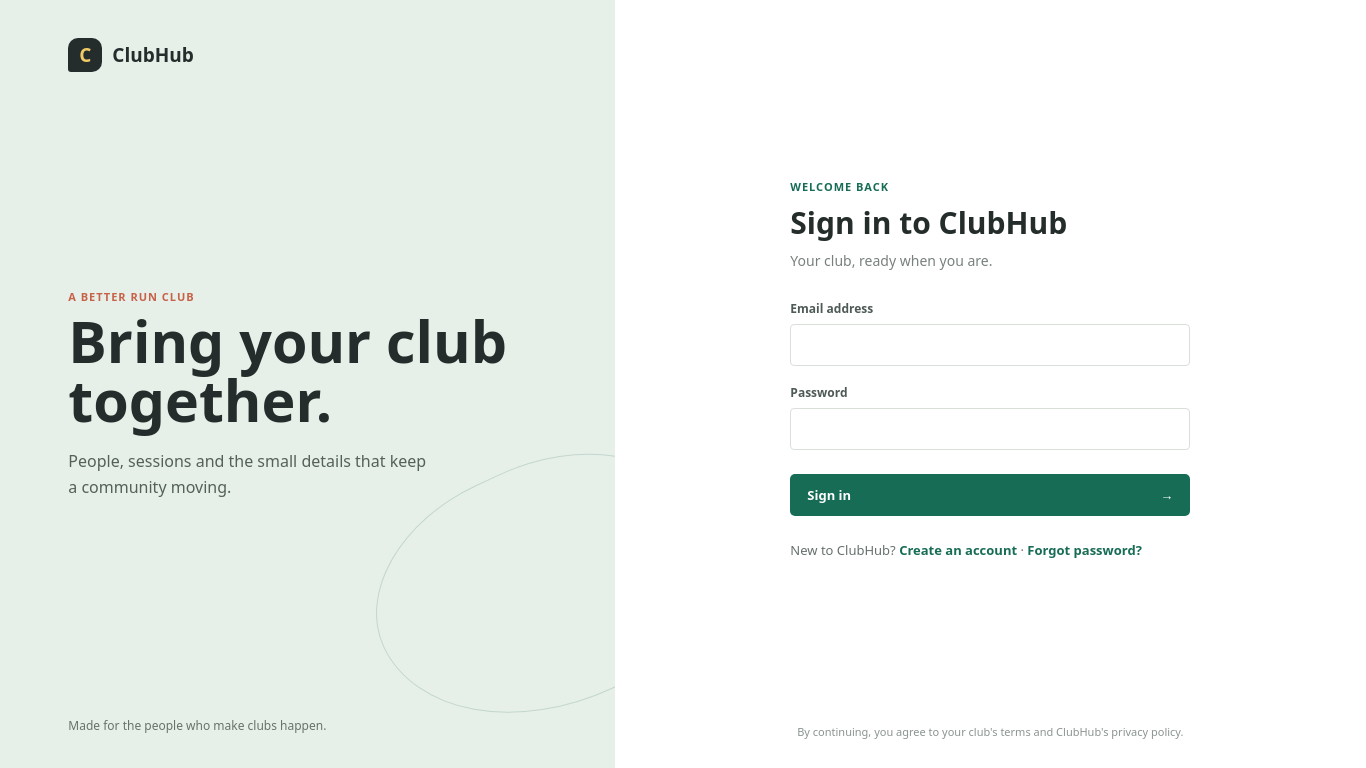
Test: ClubHub onboarding › signs in and loads the selected club dashboard
Type "alex@example.test" into the field labelled "Email address" at (990,345), box [790,324,1190,366]
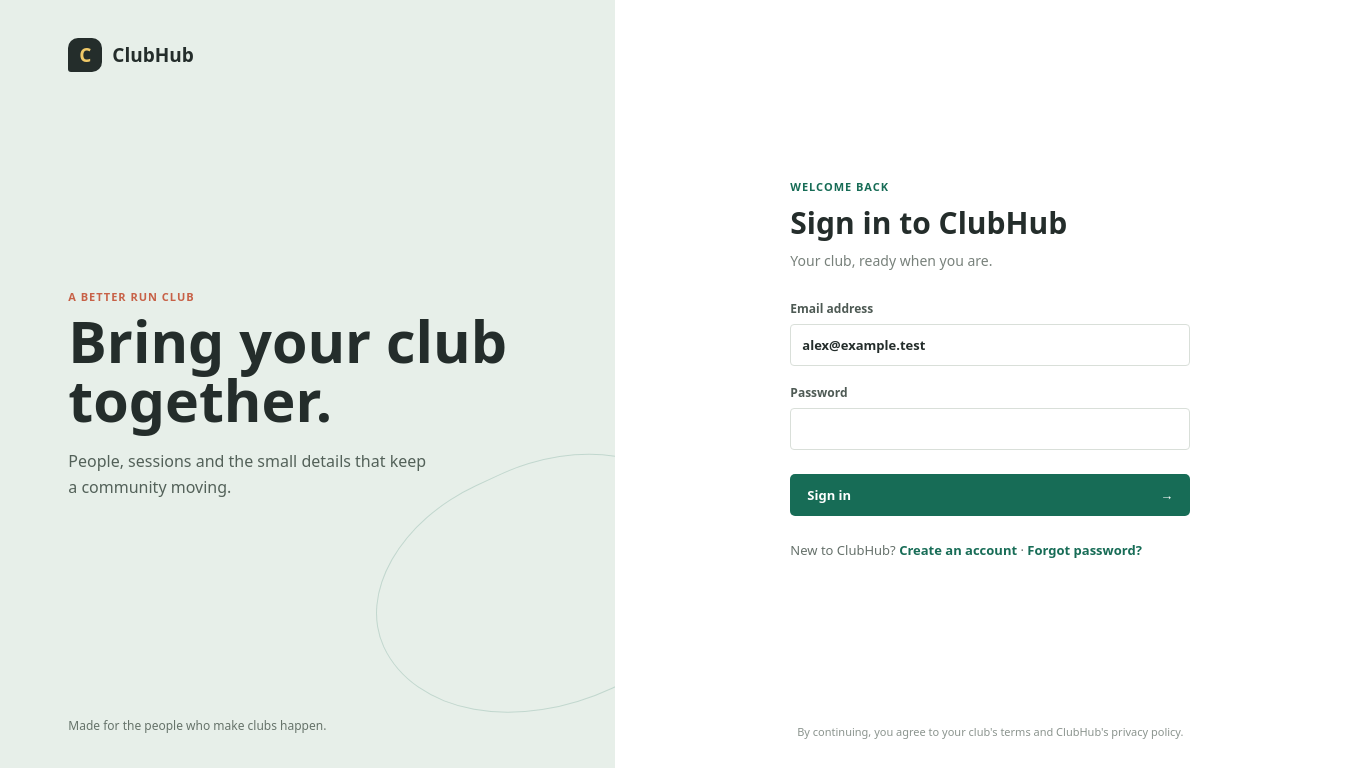
Type "not-a-real-password" into the password field labelled "Password" at (990,429), box [790,408,1190,450]
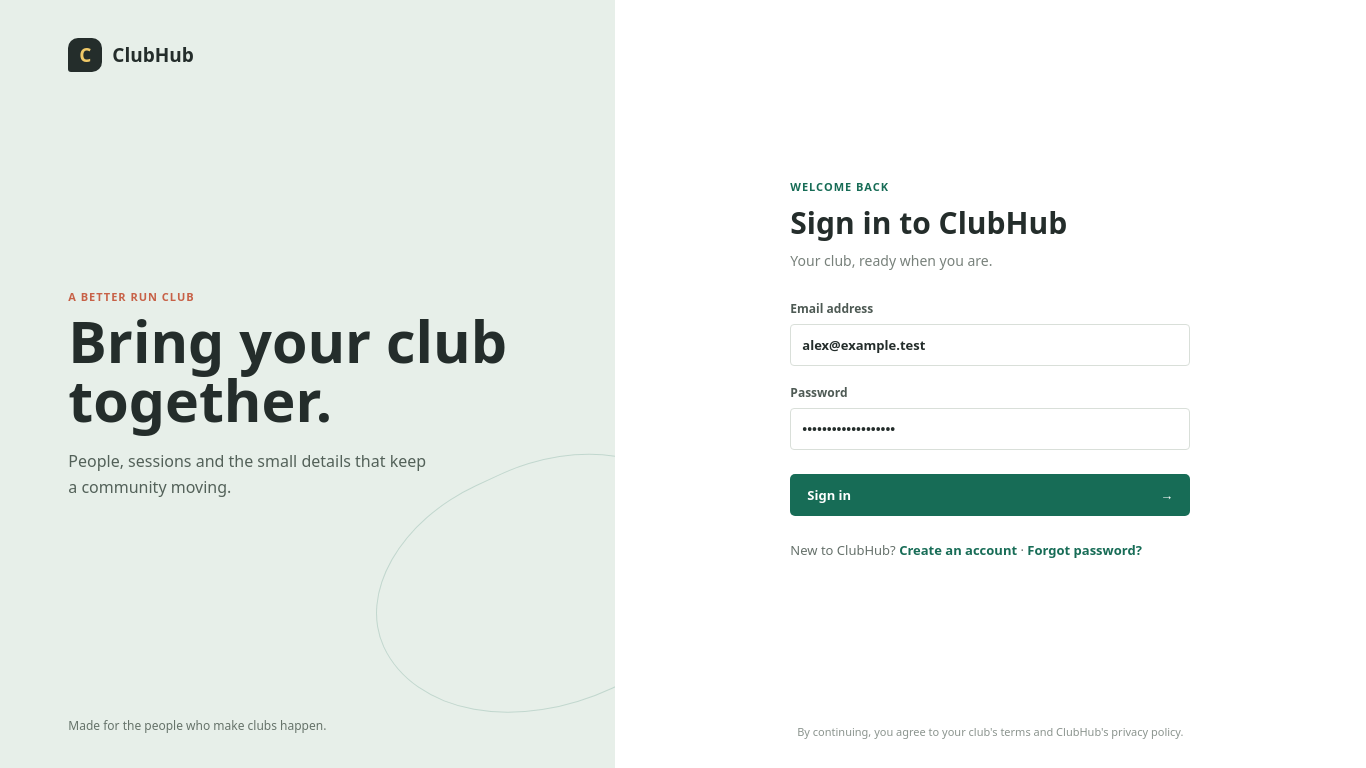
Click the button "Sign in →" at (829,495), box [790,474,1190,516]
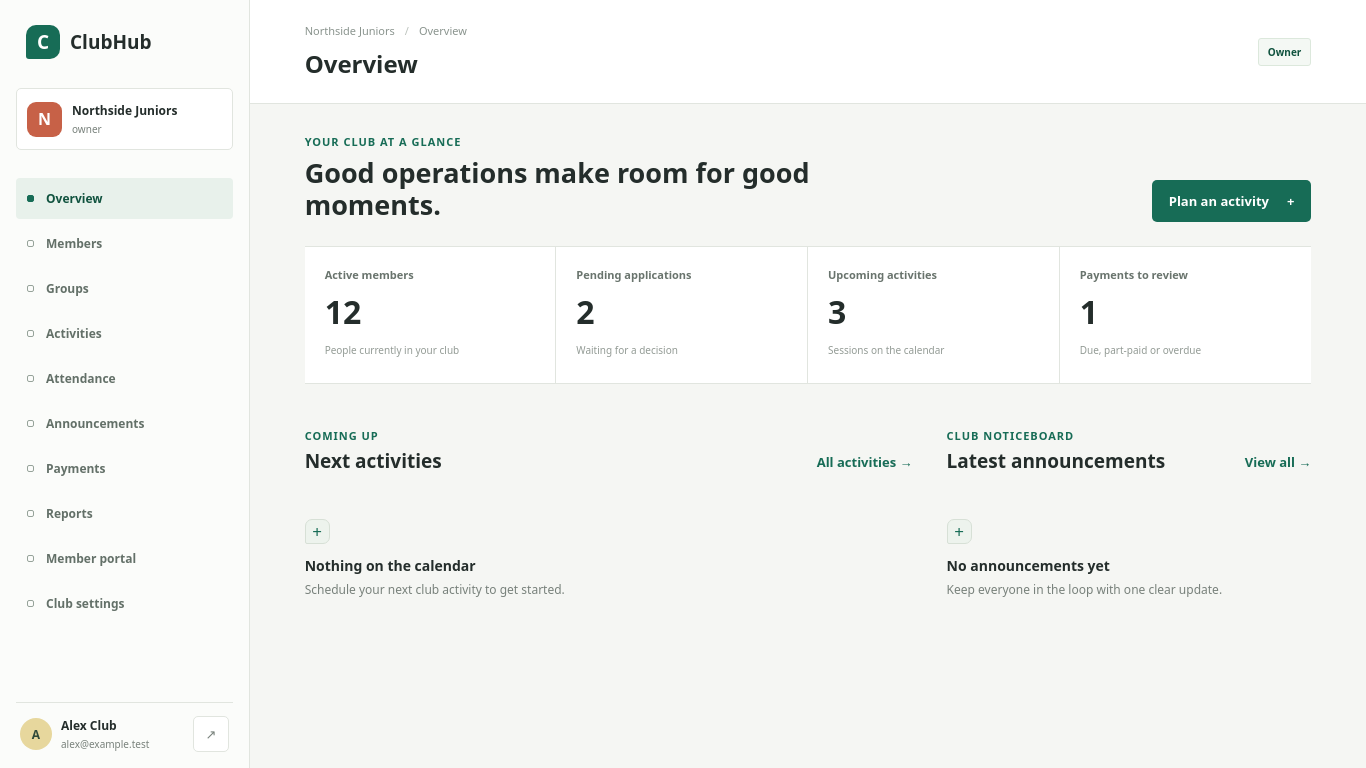
Expected: the heading "Good operations make room for good moments." is shown, [305,157,895,222]
Expected: the text "Northside Juniors" is shown, [72,102,177,119]
